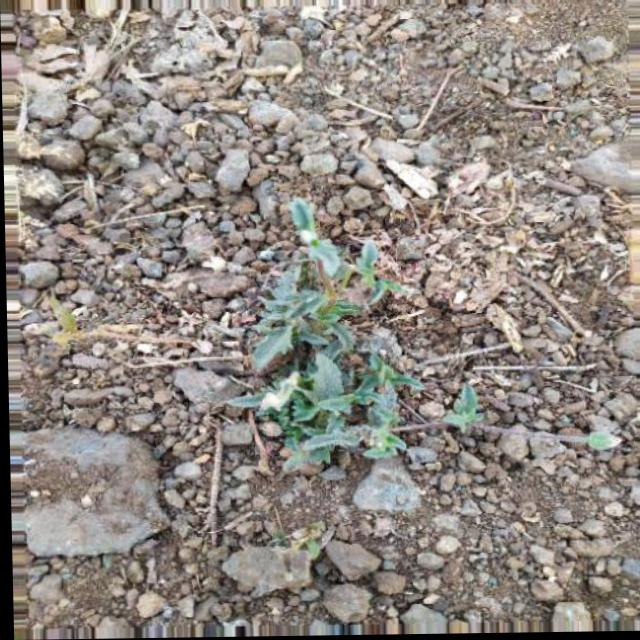weed: (228, 195, 409, 472)
